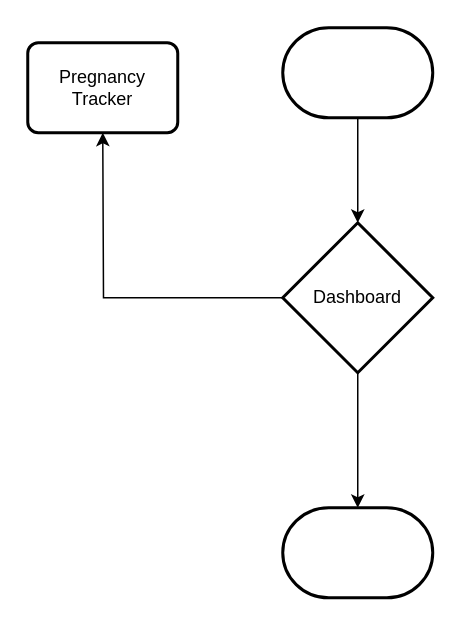
This 459x624 diagram has some shape labels left out. The shapes that lost their labels are listed below. From the top down, each one's box as (x1, y1, x2, y2) in pixels, then its label:
(280, 26, 434, 118): Start
(280, 506, 434, 598): Exit
